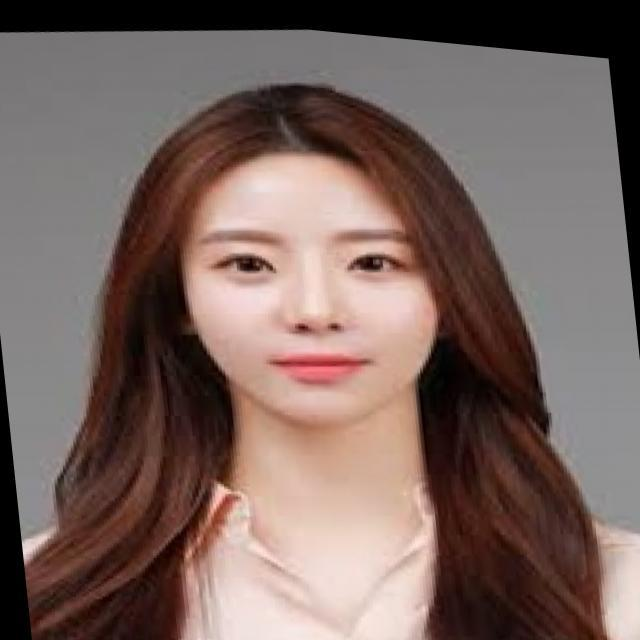Nonhelmet: (133, 81, 457, 425)
